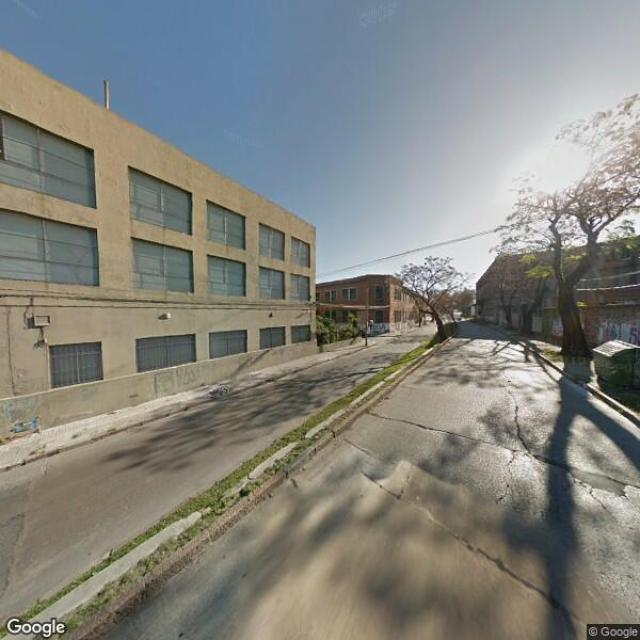garbage container: (588, 333, 640, 404)
